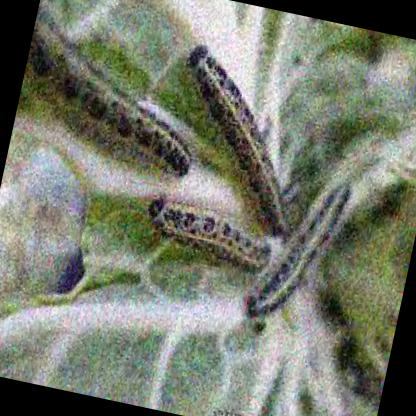pieris: (190, 41, 287, 233), (239, 179, 351, 317), (146, 199, 271, 274)
